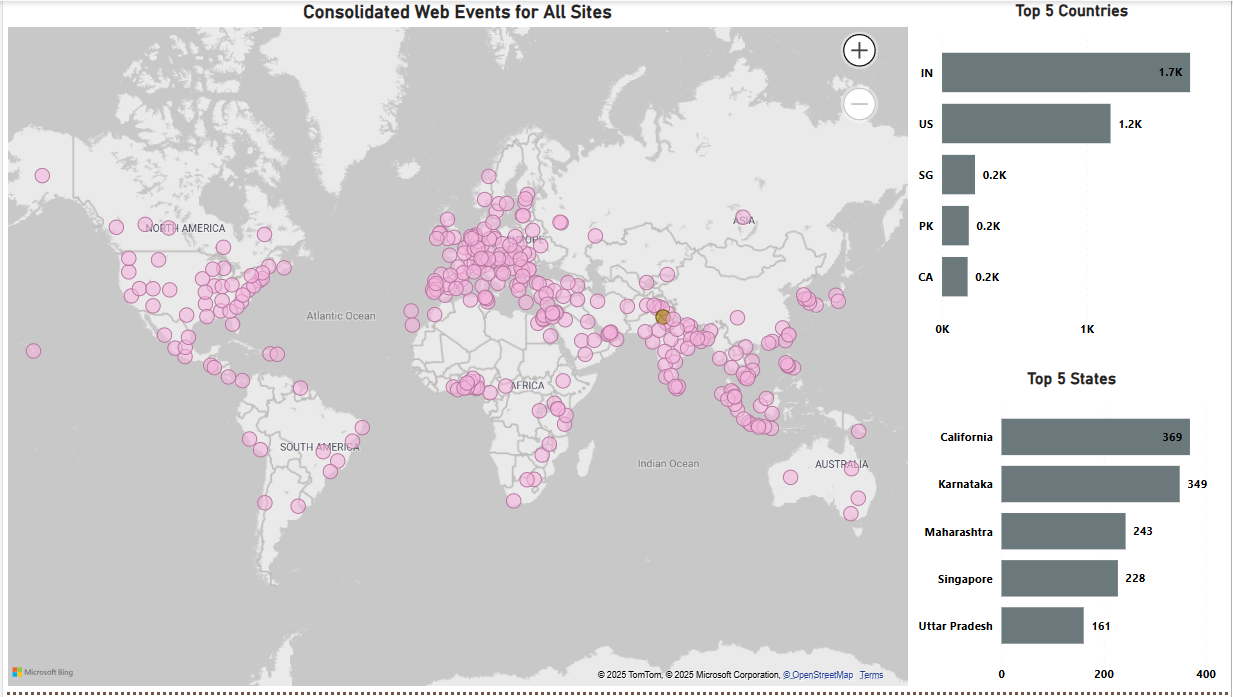

What the dashboard file says about the page in this screenshot:
{"tool":"powerbi","page":{"name":"Page 1","canvas":[1280,720],"ordinal":0},"visuals":[{"type":"map","title":"Consolidated Web Events for All Sites","fields":{"Category":["streamingwebtraffic.state"]},"box":[0,0,947.6,719.3],"z":1},{"type":"clusteredBarChart","title":"Top 5 Countries","fields":{"Category":["streamingwebtraffic.country"],"Y":["Sum(streamingwebtraffic.count)"]},"box":[947.6,0,333,359.6],"z":2},{"type":"clusteredBarChart","title":"Top 5 States","fields":{"Category":["streamingwebtraffic.state"],"Y":["Sum(streamingwebtraffic.count)"]},"box":[947.6,382.5,333,336.8],"z":3}]}

Visuals, with their boxes in screenshot pixels (x1, y1, x2, y2), scaled from the page's 1280x720 canvas onto the 1233x697 screenshot:
"Consolidated Web Events for All Sites" map: {"x1": 0, "y1": 0, "x2": 913, "y2": 696}
"Top 5 Countries" clusteredBarChart: {"x1": 913, "y1": 0, "x2": 1232, "y2": 348}
"Top 5 States" clusteredBarChart: {"x1": 913, "y1": 370, "x2": 1232, "y2": 696}
